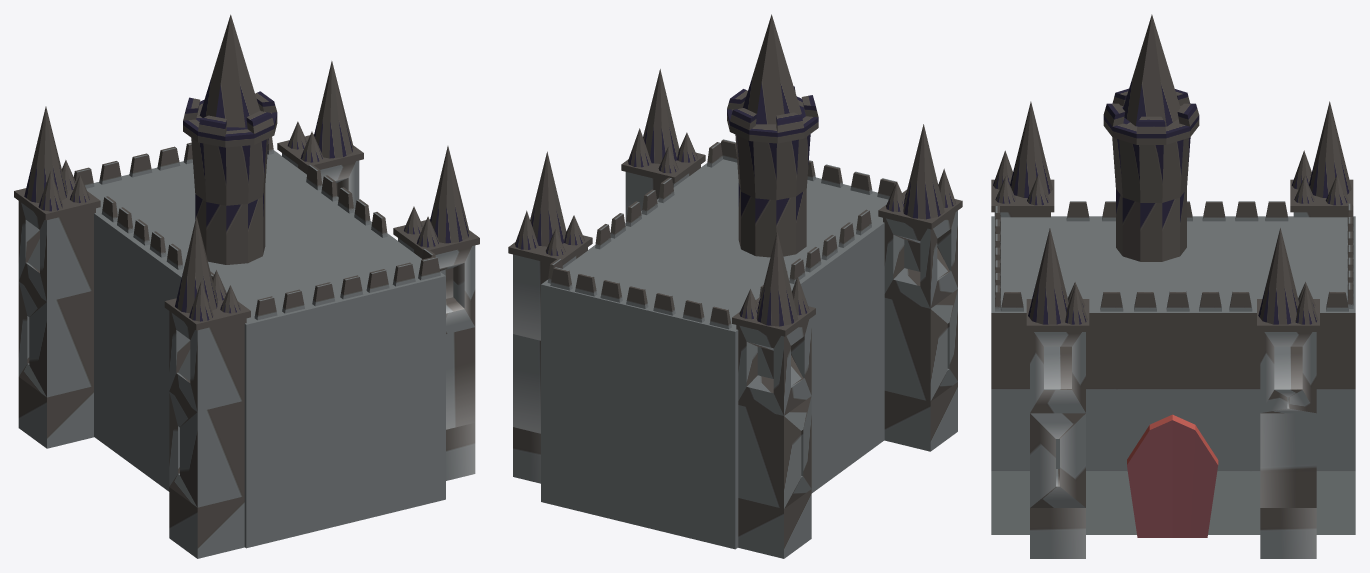
The model's file is Castelo.fbx.
3 renders of one model, left to right at view 1: azimuth 30°, elevation 25°; view 2: azimuth 150°, elevation 25°; view 3: azimuth 270°, elevation 25°, orthographic. The views are drawn at different scales.
Parts seen in each view (by area): view 1: CasteloMedieval; view 2: CasteloMedieval; view 3: CasteloMedieval.
Part boxes in pixels (<box>): CasteloMedieval: <box>14,14,479,558</box>; CasteloMedieval: <box>508,14,962,558</box>; CasteloMedieval: <box>991,14,1355,558</box>.
Bounding box in the file's own units: 2437 × 3515 × 2542.
